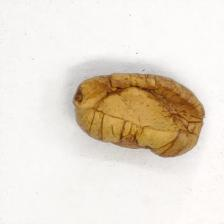NG: (92, 74, 198, 139)
